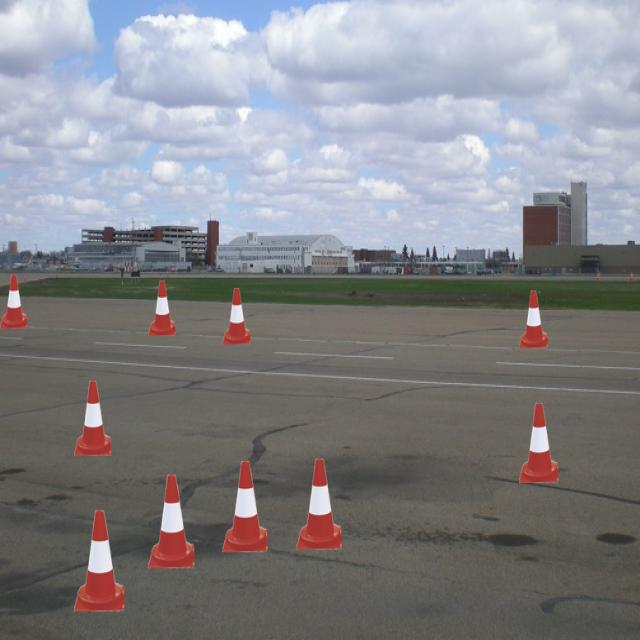orange_cone: (74, 510, 124, 612), (148, 474, 194, 568), (296, 458, 342, 550), (222, 461, 268, 552), (519, 403, 558, 483), (74, 380, 111, 456), (519, 290, 548, 348), (222, 288, 250, 345), (148, 281, 176, 336), (0, 274, 27, 329)
